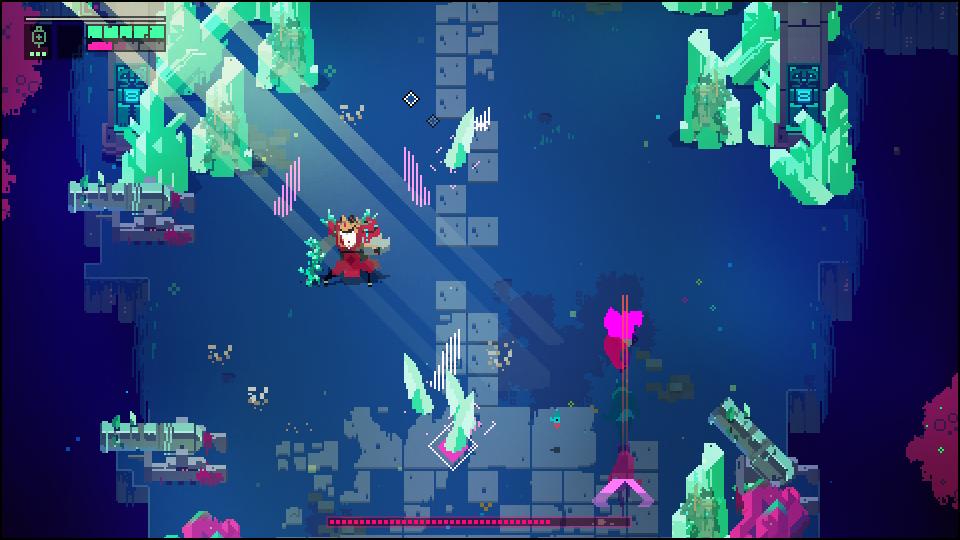hanged_crys: (398, 351, 436, 414), (439, 392, 477, 455), (434, 332, 472, 395), (395, 148, 433, 211), (441, 107, 479, 170), (273, 156, 311, 219)
hanged_man: (299, 202, 393, 296)
player: (603, 302, 646, 348)
